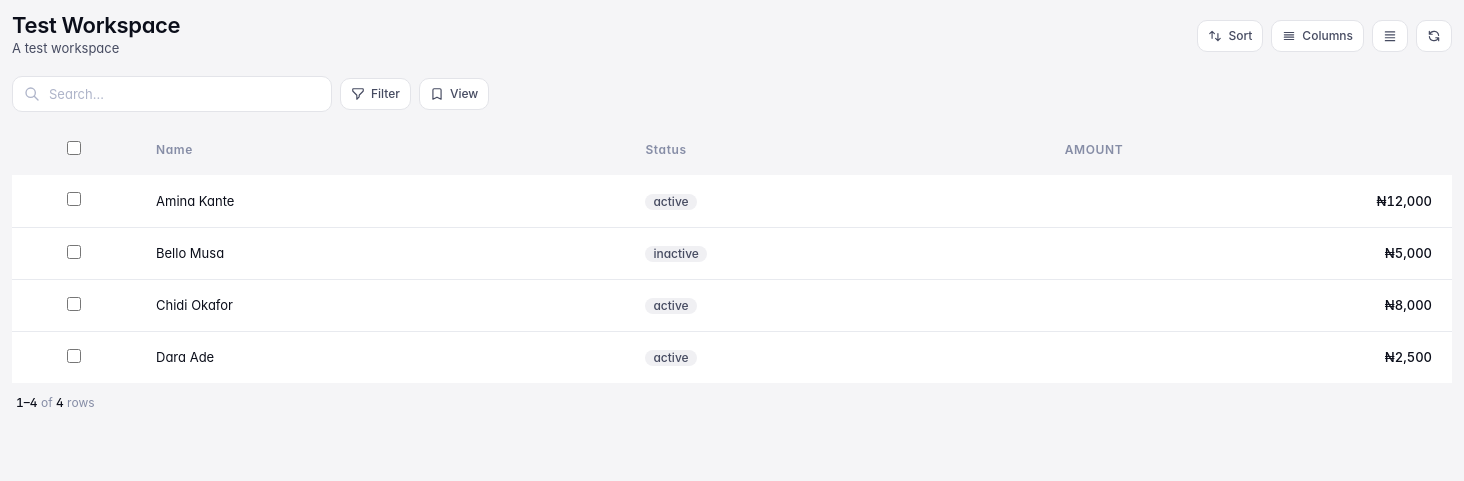
Test case: DataWorkspace — selection and bulk actions › clears the selection from the bar
Click the checkbox named "Select row 1": (74, 200) x1=67 y1=192 x2=81 y2=206
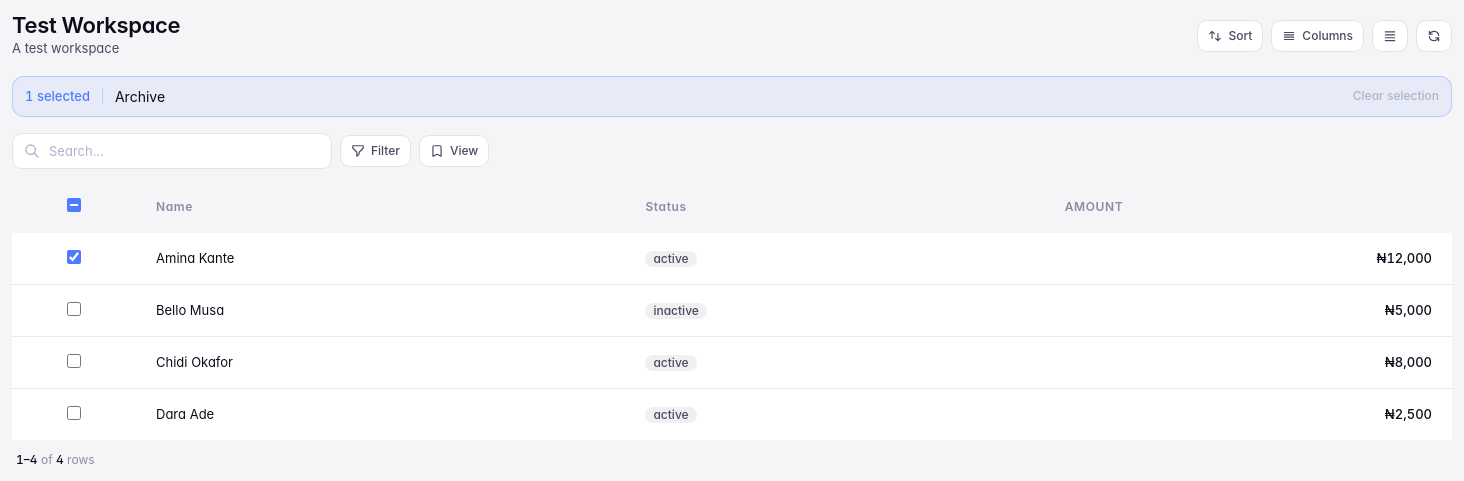
Click the button "Clear selection": (1396, 96) x1=1353 y1=88 x2=1439 y2=104
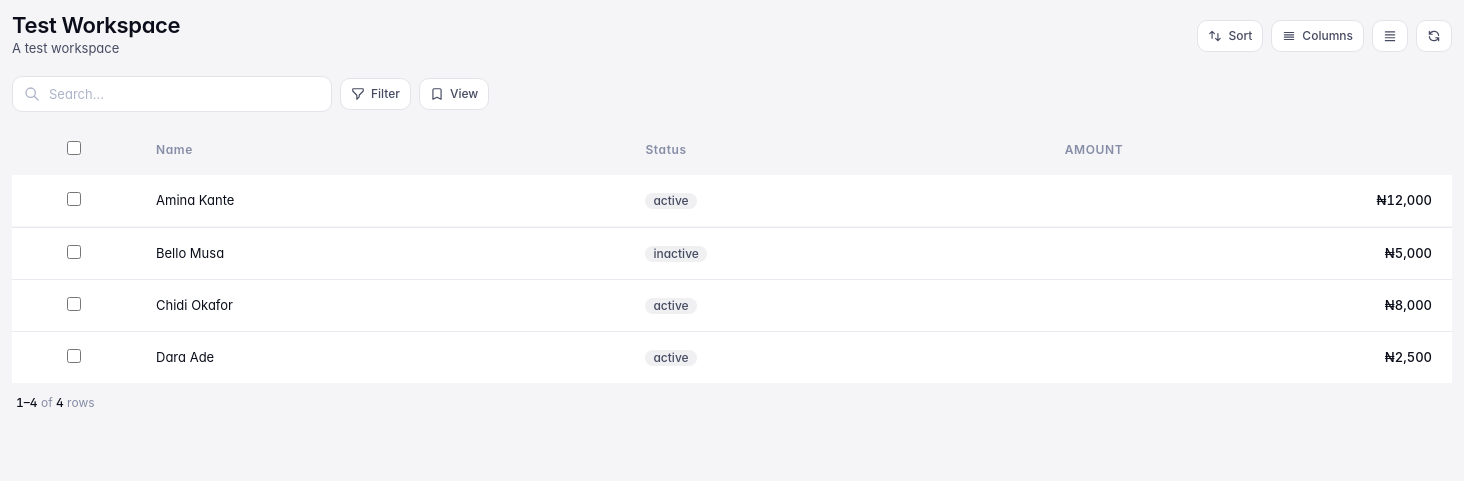
expect the text "1 selected" is gone: met
